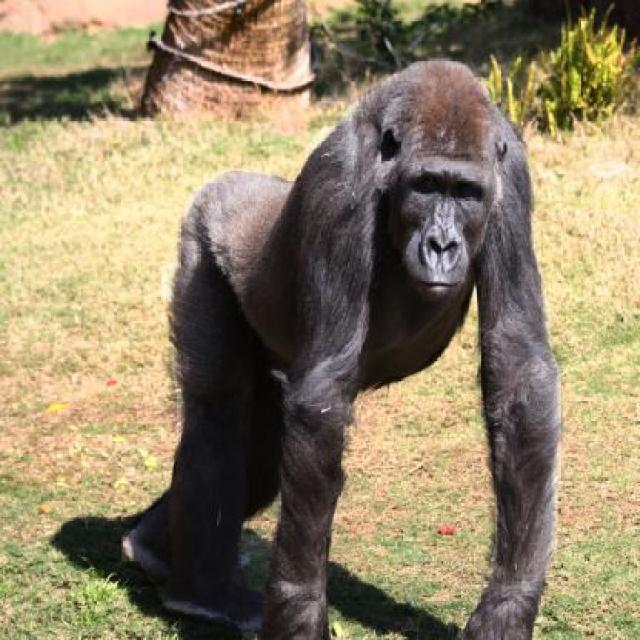Monkey: (97, 77, 585, 638)
